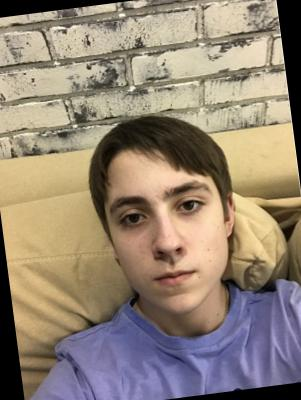without_mask: (102, 173, 234, 322)
